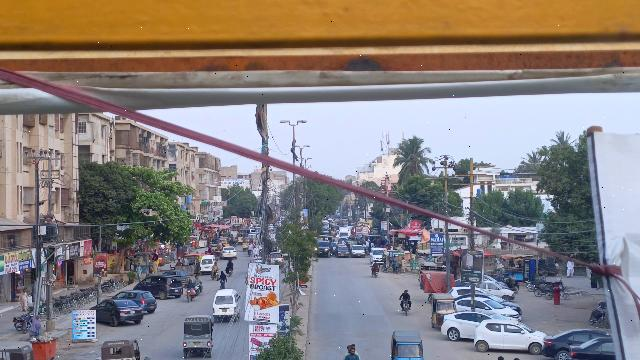Bike: (184, 287, 196, 304), (401, 301, 412, 316), (193, 281, 204, 293), (370, 267, 381, 277)
Car: (471, 319, 547, 354), (439, 310, 515, 340), (542, 328, 607, 359), (89, 299, 144, 326), (131, 273, 184, 299), (114, 289, 159, 314)
Person: (216, 269, 229, 288), (399, 287, 412, 302), (193, 273, 203, 284), (184, 279, 196, 288), (371, 259, 380, 268)
Rickshaw: (182, 314, 214, 359), (429, 291, 457, 330), (390, 328, 424, 360), (99, 338, 140, 360)
Van: (212, 288, 241, 325)
